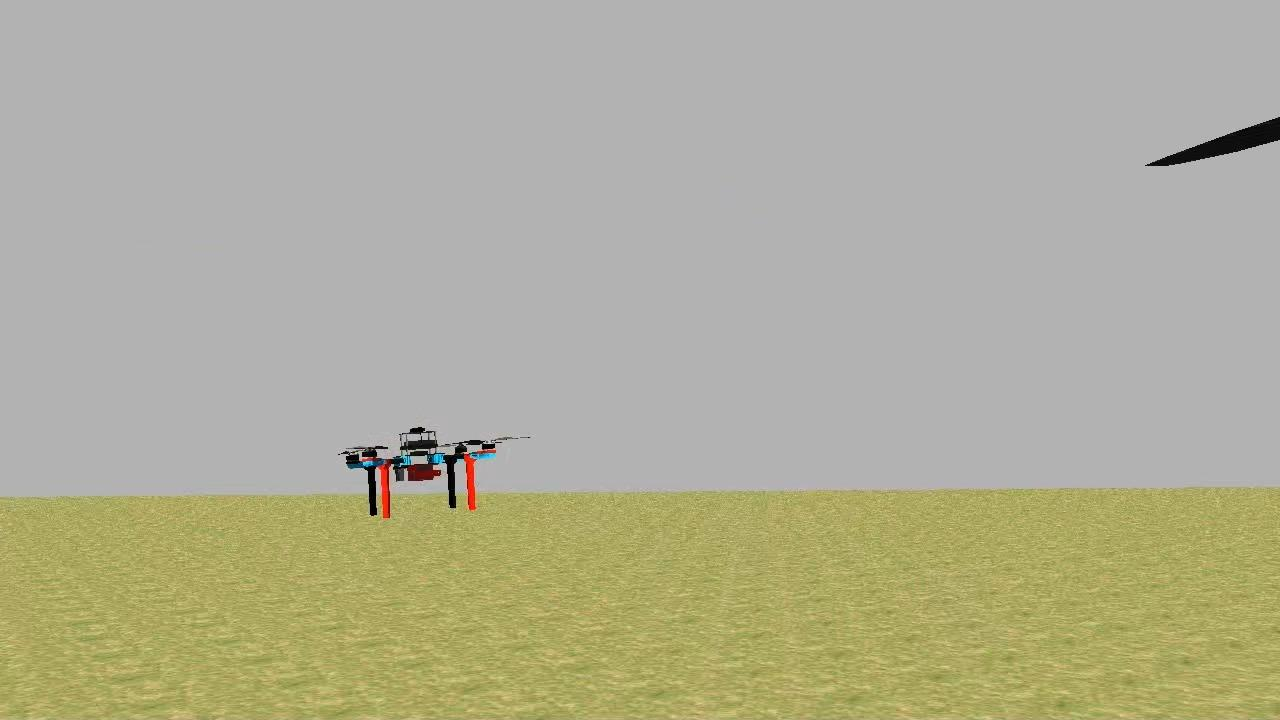UAV: (340, 419, 500, 524)
